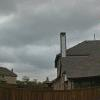Chimney: (54, 24, 67, 60)
